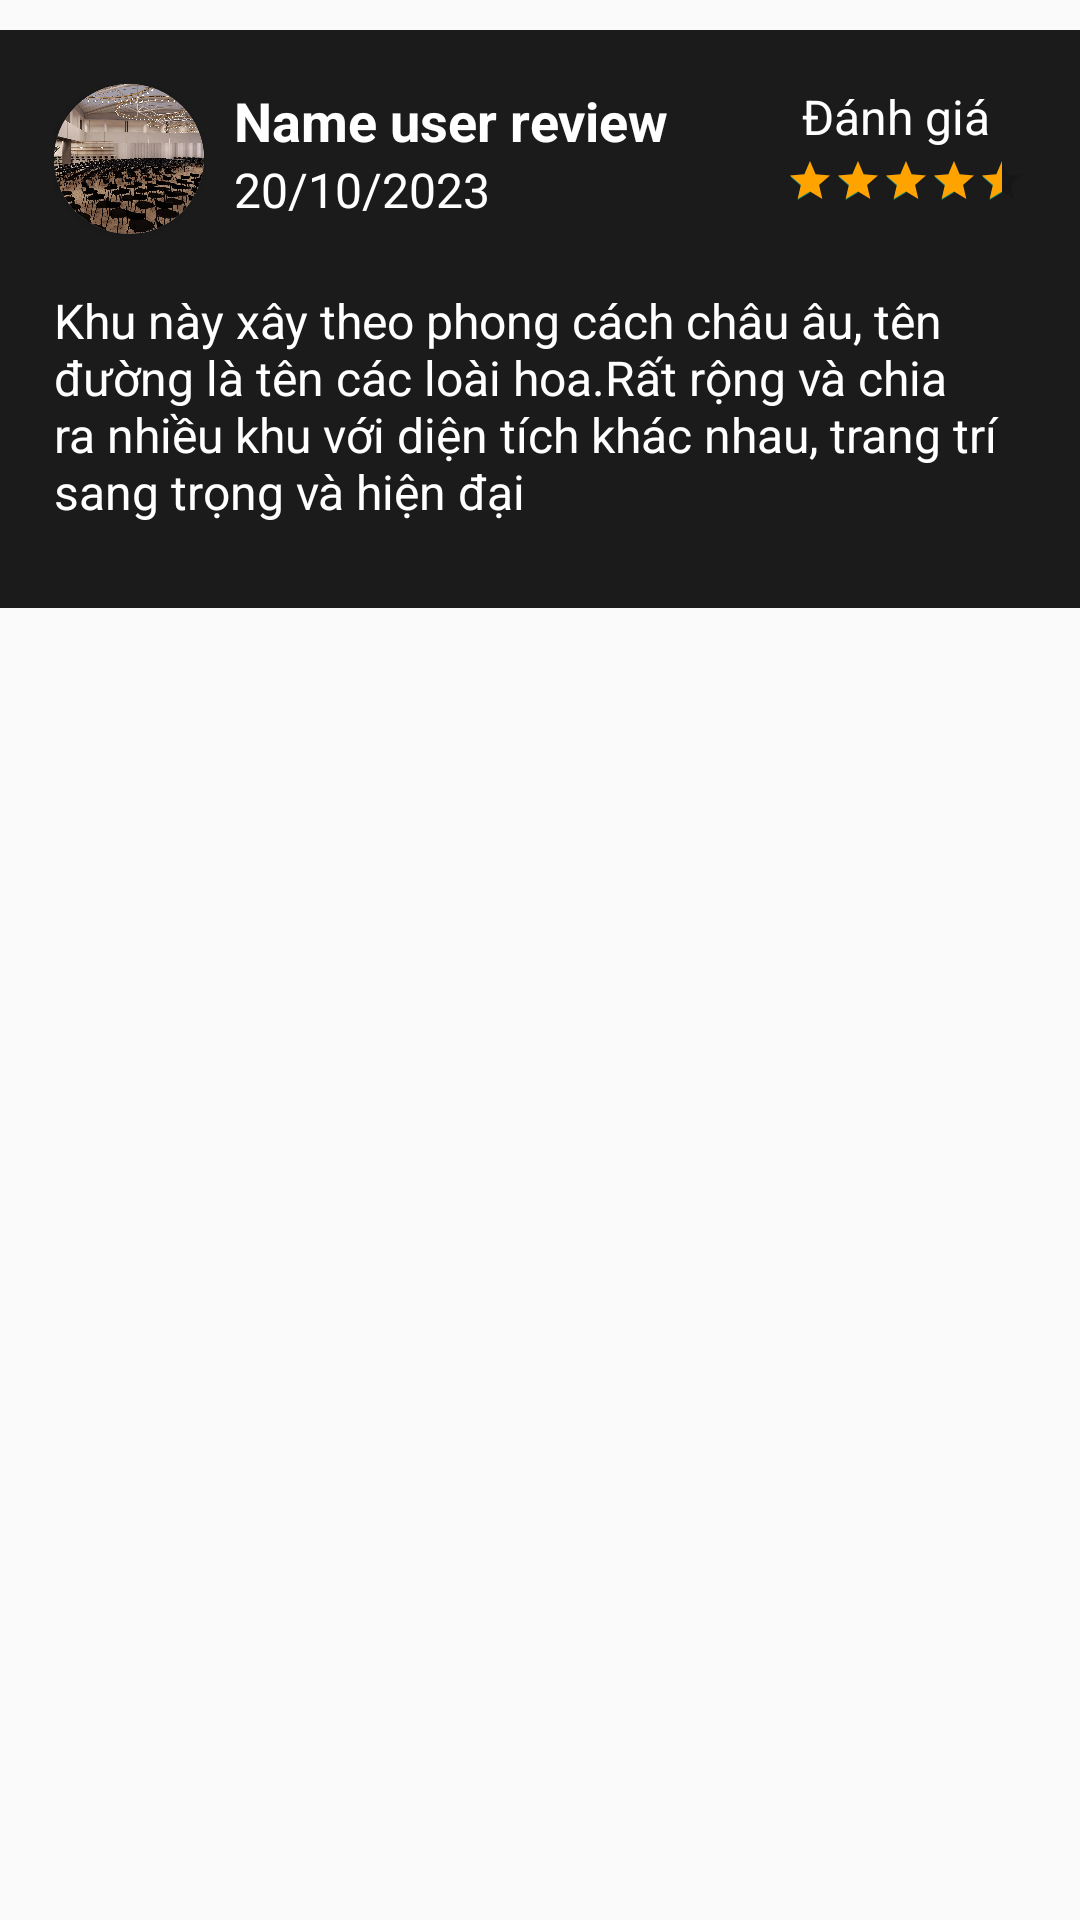

Icons on this 1080 × 1920 Android screen, each with the point to tap as [x,y]:
event room demo: [129,159]
